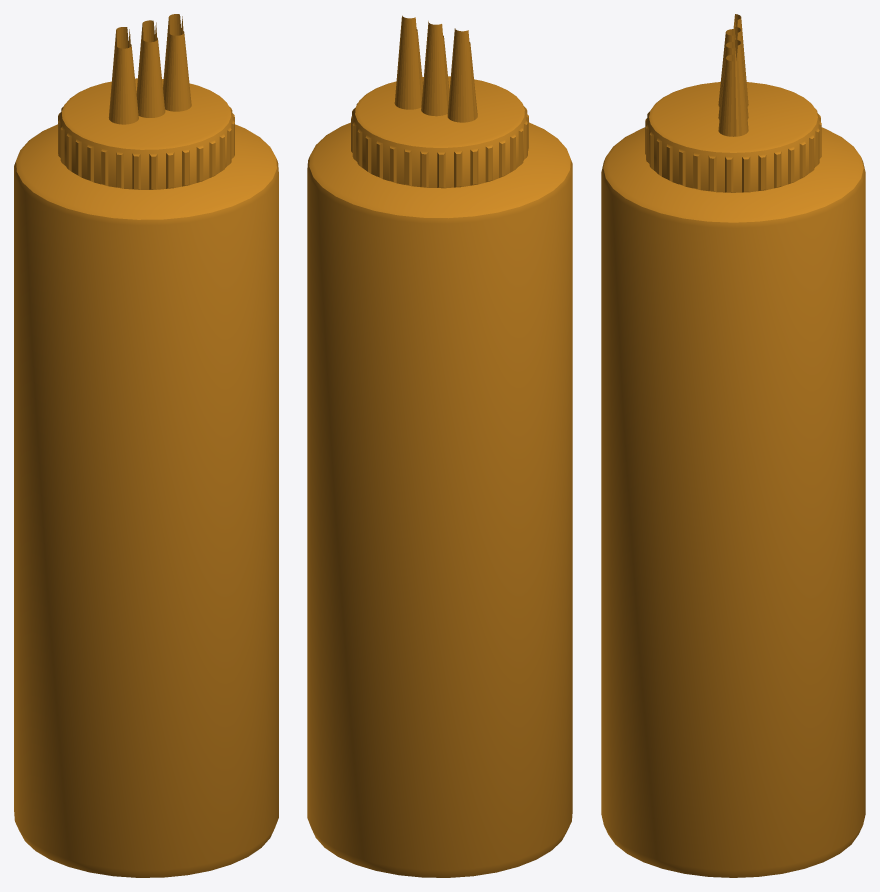
3 views of the same model, side by side, from view 1: azimuth 30°, elevation 25°; view 2: azimuth 150°, elevation 25°; view 3: azimuth 270°, elevation 25° (orthographic).
Parts seen in each view (by area): view 1: 圆环.001; view 2: 圆环.001; view 3: 圆环.001.
Boxes of the visible parts, <box> form: 圆环.001: <box>14,14,278,877</box>; 圆环.001: <box>307,15,572,877</box>; 圆环.001: <box>601,14,865,877</box>.
Size of the model in its own units: 16.17 by 16.17 by 54.
